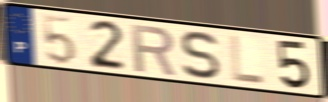2: (87, 18, 130, 73)
5: (41, 13, 79, 66), (276, 39, 311, 91)
L: (229, 34, 267, 86)
R: (129, 22, 178, 77)
S: (179, 29, 221, 81)
